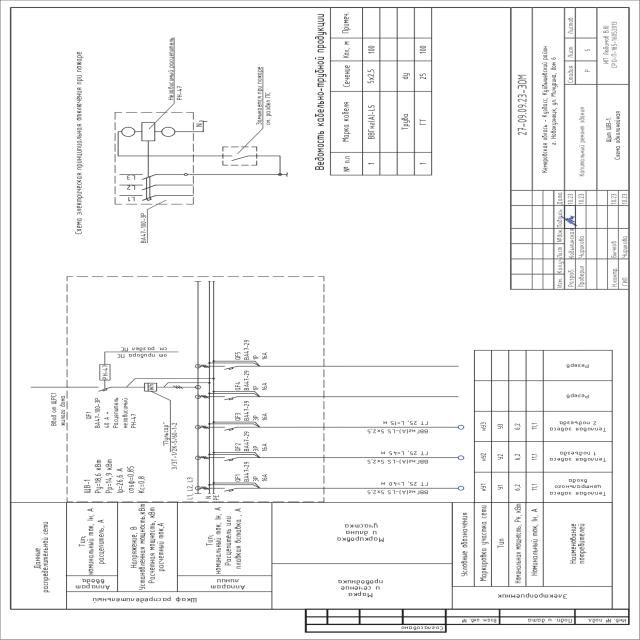-: (93, 397, 139, 430), (162, 422, 179, 471), (242, 461, 270, 482), (242, 338, 269, 359), (242, 370, 269, 391), (242, 400, 269, 421), (242, 432, 270, 452), (82, 478, 93, 495), (102, 364, 108, 380)
ITU: (99, 363, 111, 381)
QF: (220, 364, 238, 372), (222, 394, 239, 402), (95, 385, 112, 393), (221, 456, 238, 462), (221, 487, 238, 493), (222, 426, 238, 432)
WH: (143, 382, 158, 392)
